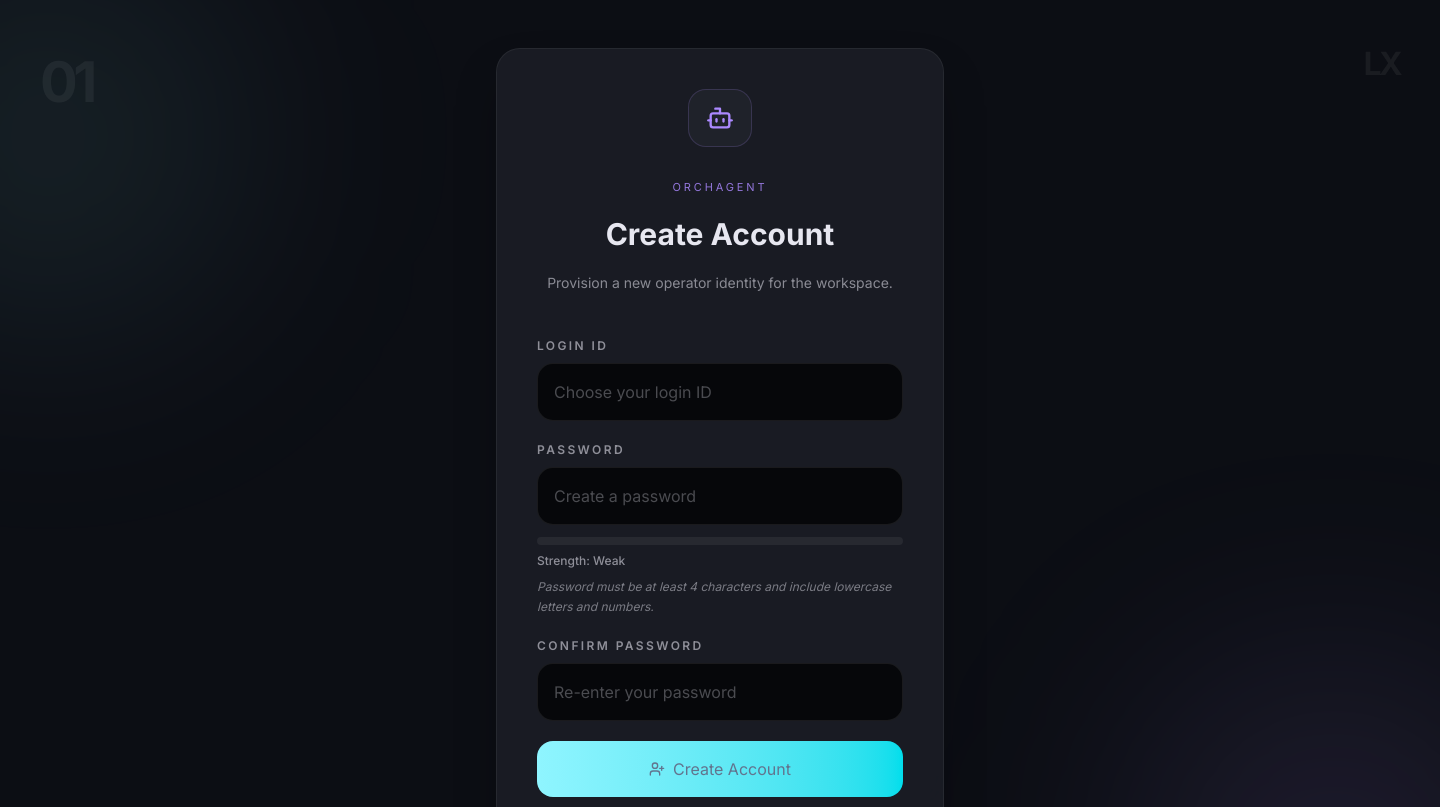
Test case: signup form validates confirmation and shows helper text
Expected: the text "Password must be at least 4 characters" is shown, [537,578,891,614]
Step 1. Type "user1" into the field labelled "Login ID" → (720, 392), box [537,362,903,420]
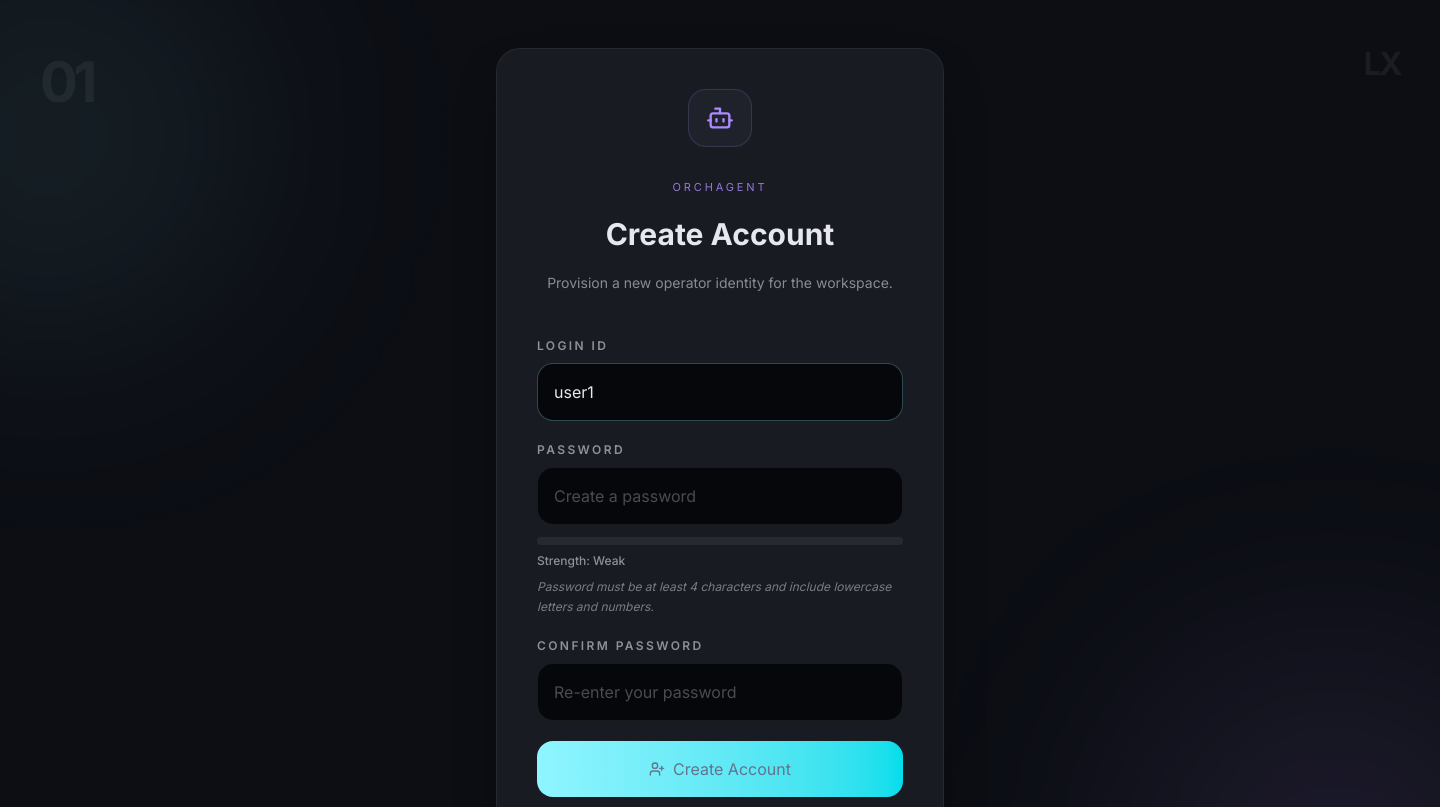
Step 2. Type "abcdefghijklmn1" into the password field labelled "Password" → (720, 496), box [537,466,903,524]
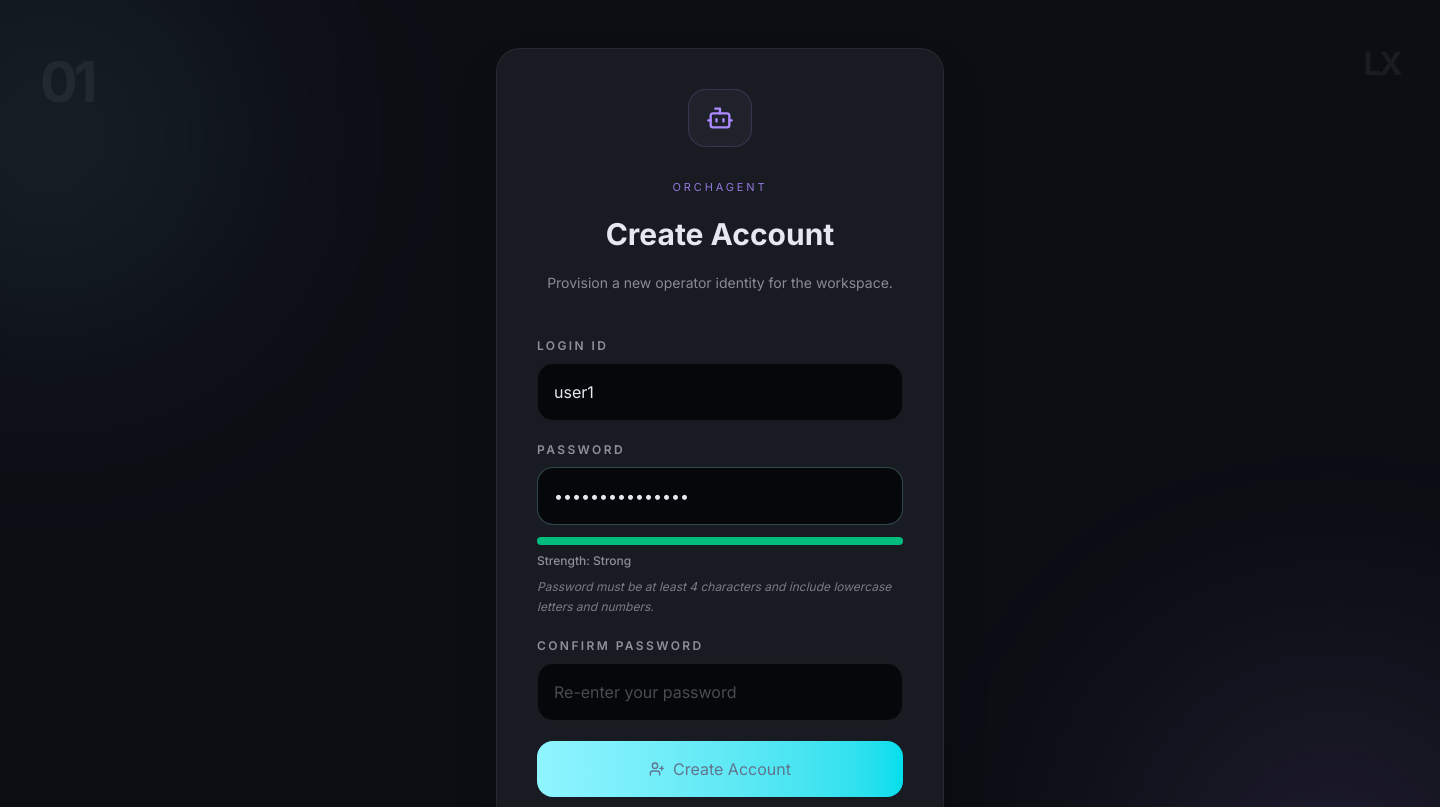
Step 3. Type "mismatch" into the password field labelled "Confirm Password" → (720, 692), box [537,662,903,720]
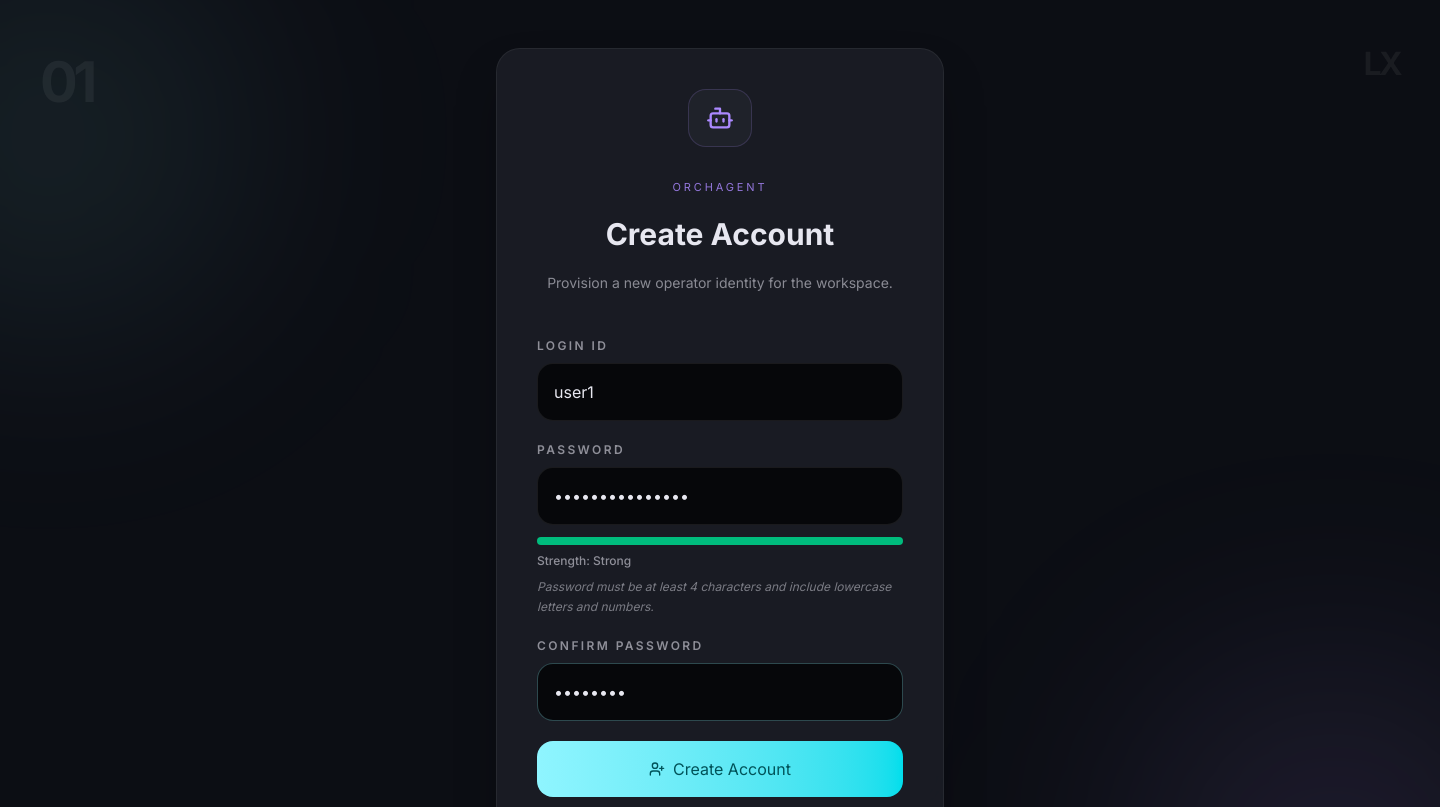
Step 4. Click the button "Create Account" → (720, 768), box [537,740,903,796]
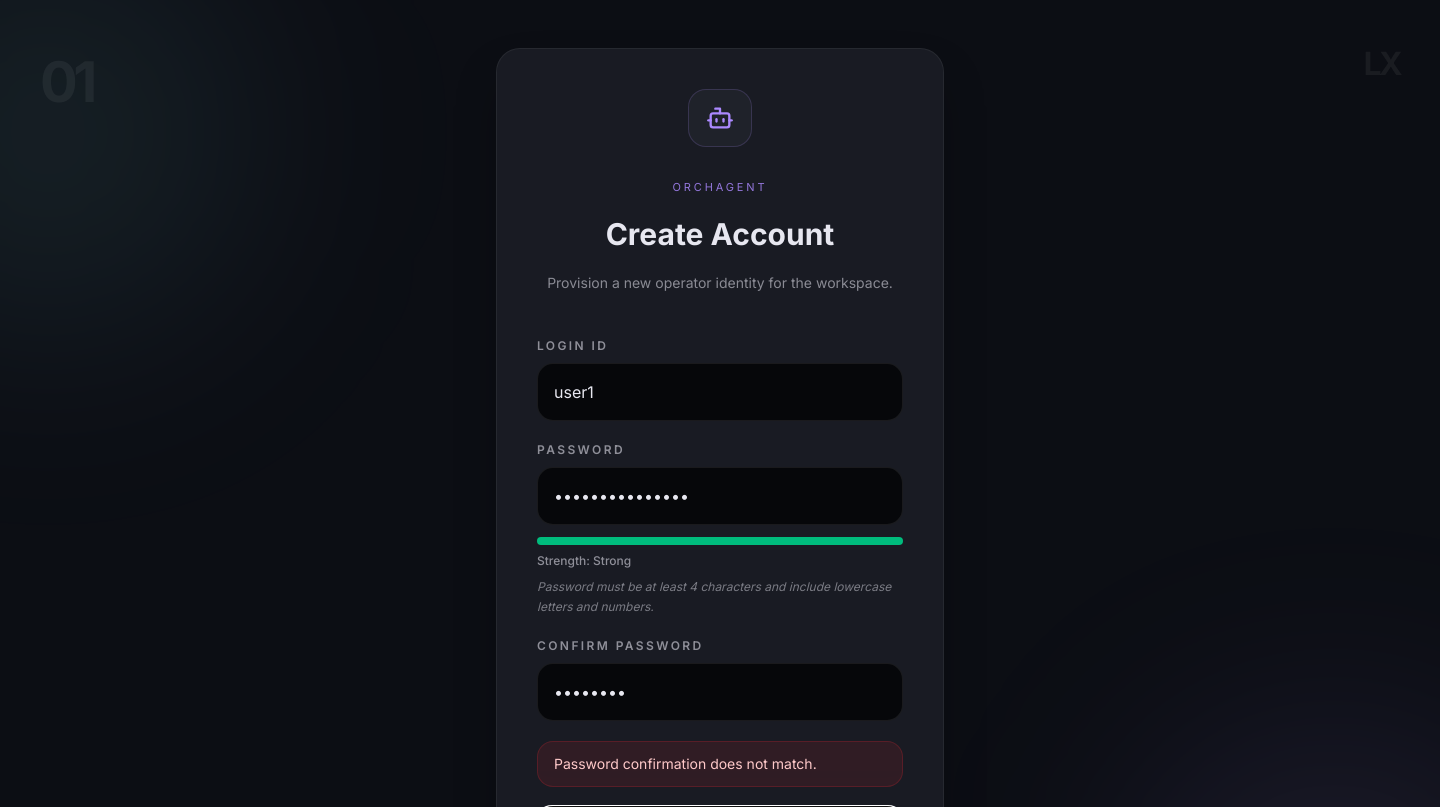
Expected: the text "Password confirmation does not match." is shown, [537,740,903,786]
